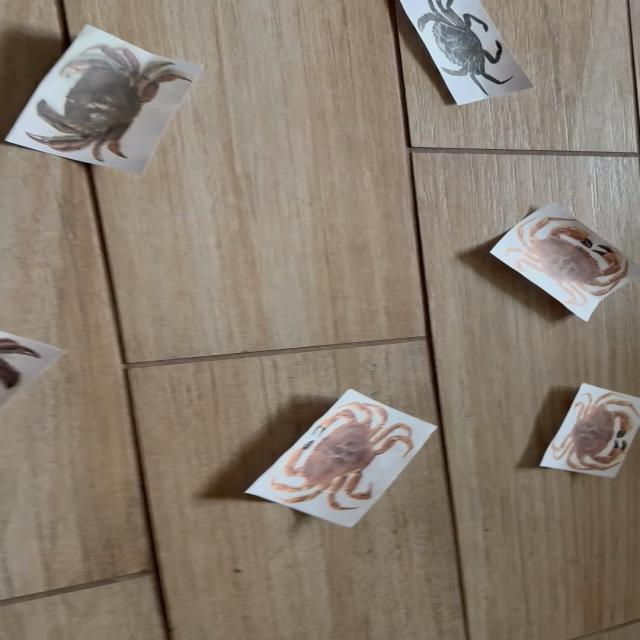egc: (401, 0, 533, 105)
